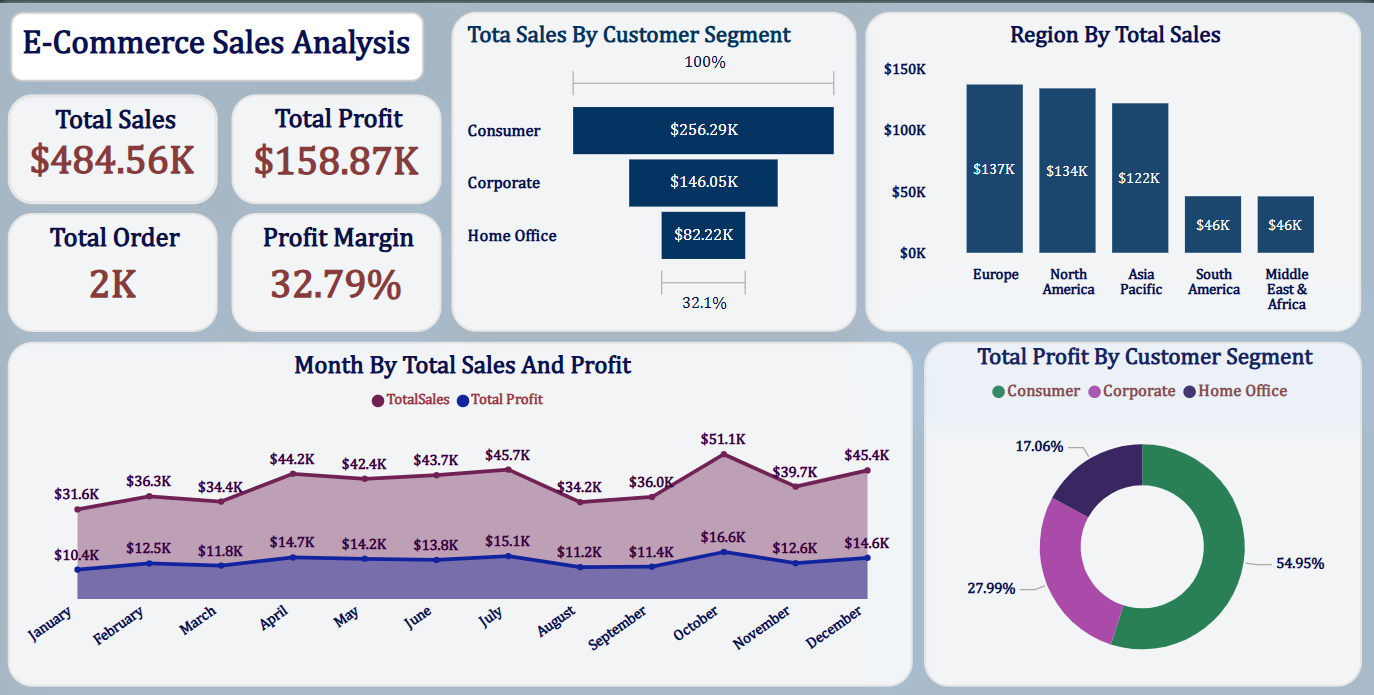

Layout of this report page (visuals, bound fields, positions):
{"tool":"powerbi","page":{"name":"Page 1","canvas":[1100,555],"ordinal":0},"visuals":[{"type":"cardVisual","title":"Total Sales","fields":{"Data":["global_ecommerce_sales.TotalSales"]},"box":[7,73,168,88],"z":0},{"type":"donutChart","title":" Total Profit By Customer Segment","fields":{"Category":["global_ecommerce_sales.Customer_Segment"],"Y":["Sum(global_ecommerce_sales.Profit)"]},"box":[740,271,350,276],"z":1000},{"type":"clusteredColumnChart","title":"Region By Total Sales","fields":{"Category":["global_ecommerce_sales.Region"],"Y":["global_ecommerce_sales.TotalSales"]},"box":[693,7,397,256],"z":2000},{"type":"lineChart","title":"Month By Total Sales And Profit","fields":{"Y":["global_ecommerce_sales.TotalSales","global_ecommerce_sales.Total Profit"],"Category":["global_ecommerce_sales.Order_Date.Variation.Date Hierarchy.Month"]},"box":[7,271,724,276],"z":3000},{"type":"textbox","box":[9,7,331,56],"z":4000},{"type":"cardVisual","title":"Total Profit","fields":{"Data":["global_ecommerce_sales.Total Profit"]},"box":[186,73,168,88],"z":5000},{"type":"cardVisual","title":"Total Order","fields":{"Data":["global_ecommerce_sales.Total Order"]},"box":[7,168,168,95],"z":6000},{"type":"cardVisual","title":"Profit Margin","fields":{"Data":["global_ecommerce_sales.fff"]},"box":[186,168,168,95],"z":7000},{"type":"funnel","title":"Tota Sales By Customer Segment","fields":{"Category":["global_ecommerce_sales.Customer_Segment"],"Y":["global_ecommerce_sales.TotalSales"]},"box":[362,7,324,256],"z":8000}]}

Visuals, with their boxes in screenshot pixels (x1, y1, x2, y2), scaled from the page's 1100x555 canvas onto the 1374x695 screenshot:
"Total Sales" cardVisual: [9,91,219,202]
" Total Profit By Customer Segment" donutChart: [924,339,1362,685]
"Region By Total Sales" clusteredColumnChart: [866,9,1362,329]
"Month By Total Sales And Profit" lineChart: [9,339,913,685]
textbox: [11,9,425,79]
"Total Profit" cardVisual: [232,91,442,202]
"Total Order" cardVisual: [9,210,219,329]
"Profit Margin" cardVisual: [232,210,442,329]
"Tota Sales By Customer Segment" funnel: [452,9,857,329]
